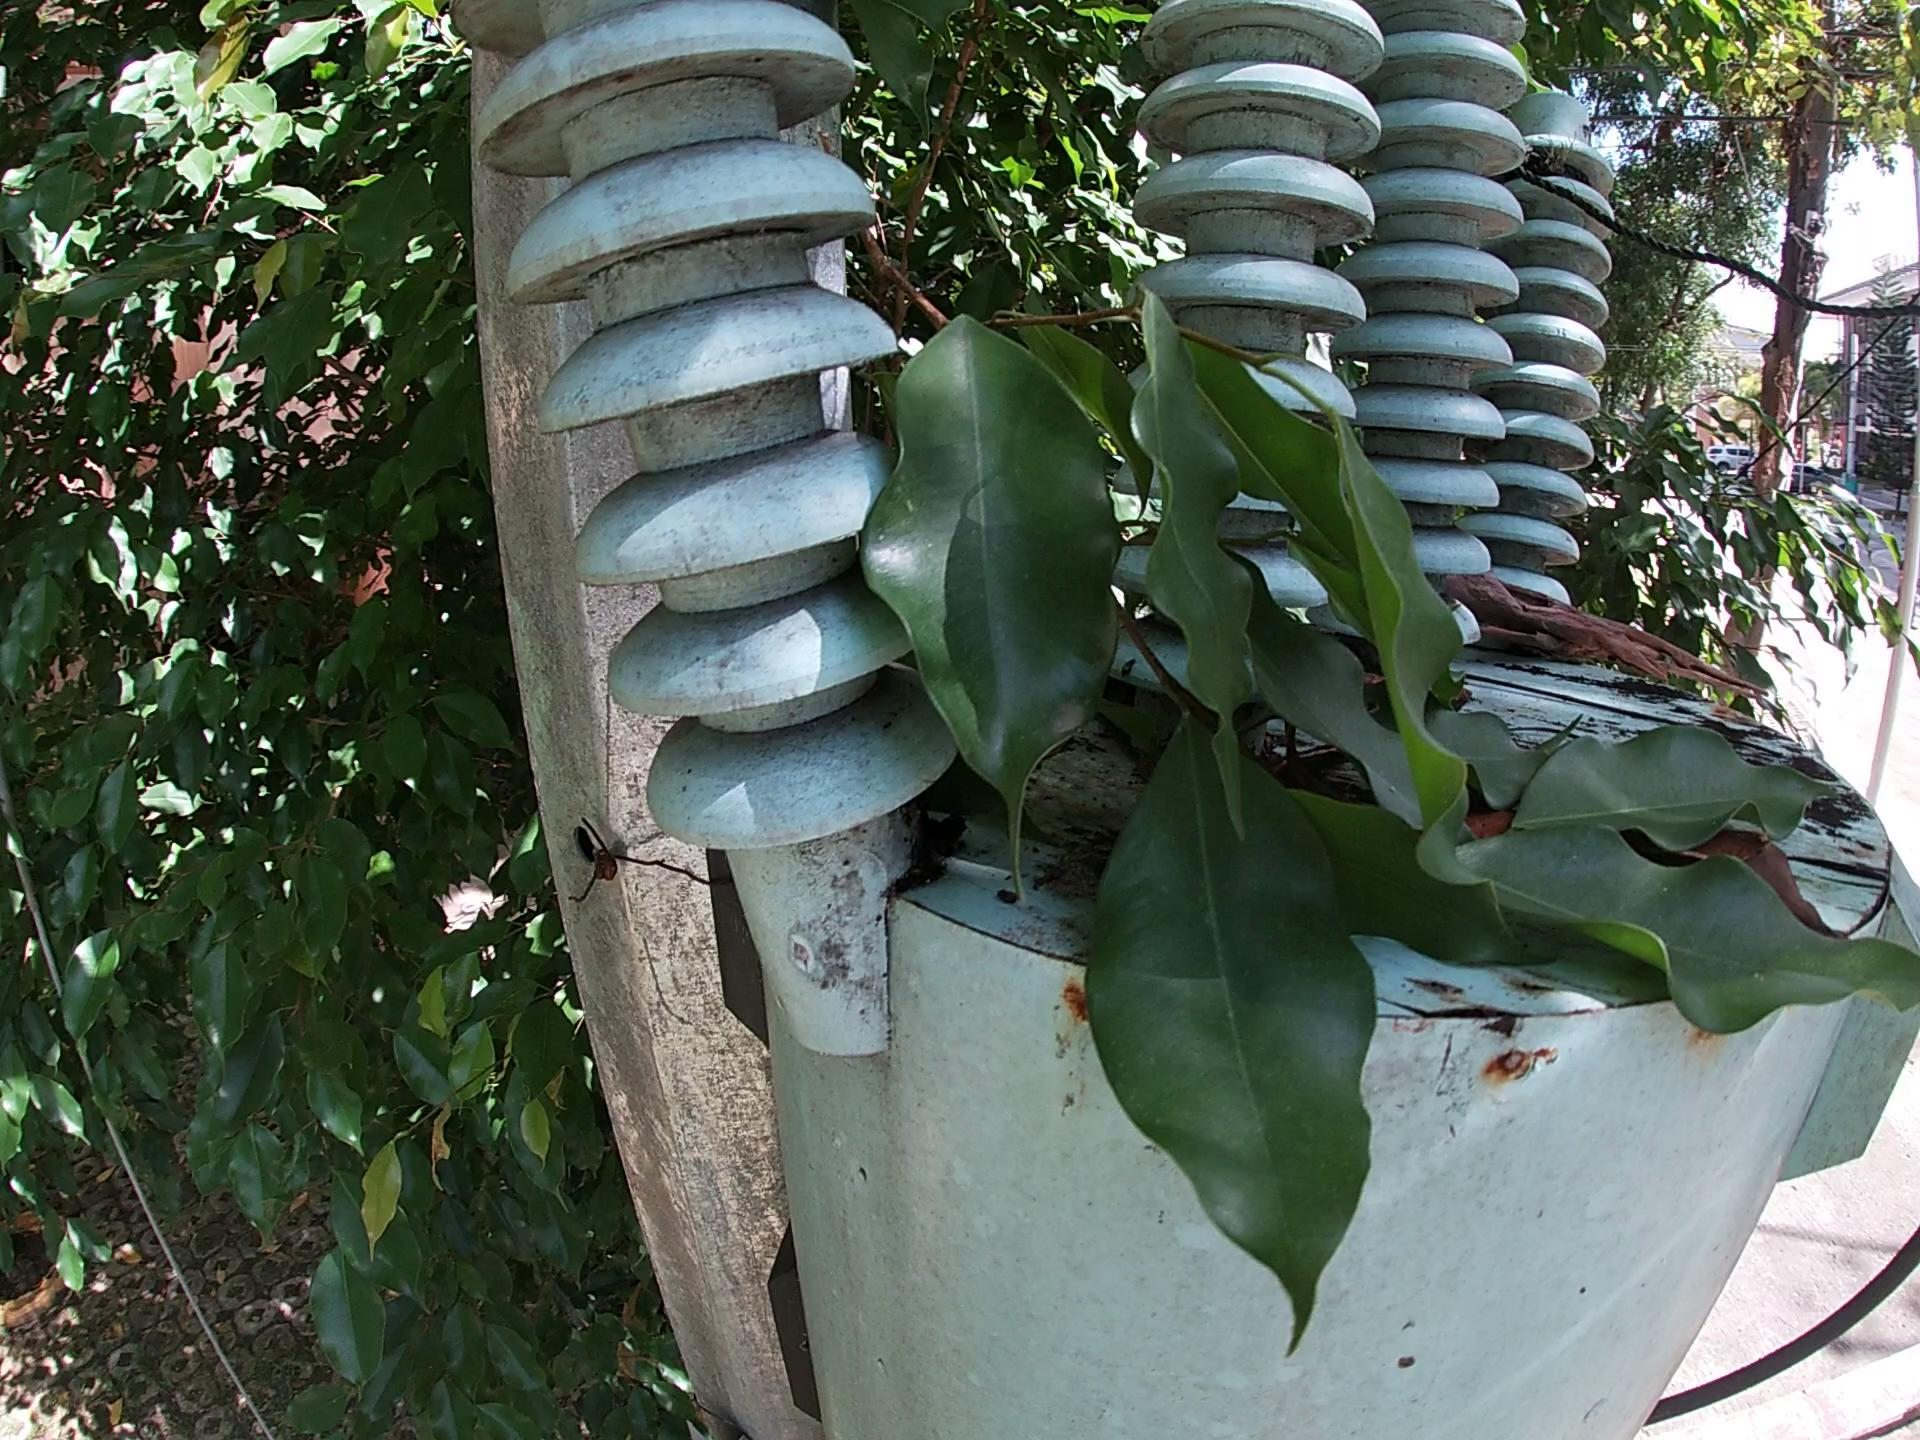branch with leaves: (844, 216, 1897, 1316)
tree branch: (1453, 564, 1761, 700), (1435, 655, 1702, 728)
